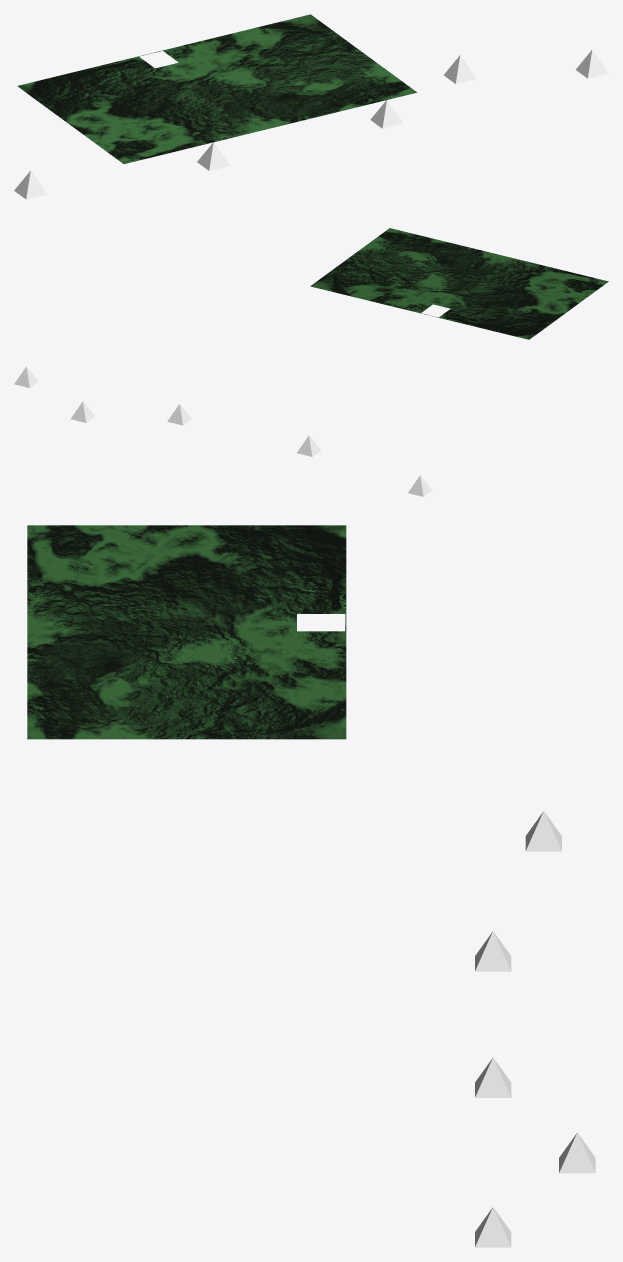
Rendered from acid_lab.gltf.
The picture shows the model from 3 angles, top to bottom: view 1: azimuth 30°, elevation 25°; view 2: azimuth 150°, elevation 25°; view 3: azimuth 270°, elevation 25°; orthographic projection. The views are drawn at different scales.
Visible parts, largest first — view 1: bldg_acid, hp_hanger2, hp_hanger4, hp_hanger3, hp_hanger1, hp_lava; view 2: bldg_acid; view 3: bldg_acid, hp_lava, hp_hanger4, hp_hanger2, hp_hanger1, hp_hanger3.
Part boxes in pixels (x1=…): bldg_acid: x1=17, y1=14, x2=416, y2=163; hp_hanger2: x1=14, y1=170, x2=47, y2=199; hp_hanger4: x1=575, y1=49, x2=608, y2=78; hp_hanger3: x1=370, y1=100, x2=403, y2=128; hp_hanger1: x1=197, y1=142, x2=229, y2=170; hp_lava: x1=444, y1=55, x2=476, y2=83; bldg_acid: x1=310, y1=228, x2=608, y2=339; bldg_acid: x1=27, y1=525, x2=346, y2=739; hp_lava: x1=559, y1=1132, x2=595, y2=1173; hp_hanger4: x1=475, y1=1207, x2=511, y2=1247; hp_hanger2: x1=525, y1=811, x2=561, y2=851; hp_hanger1: x1=475, y1=931, x2=511, y2=971; hp_hanger3: x1=475, y1=1057, x2=511, y2=1097.
Size of what is drawn, in the model's own units: 53.32 by 14.02 by 27.68.
2 materials, 2 textured.
